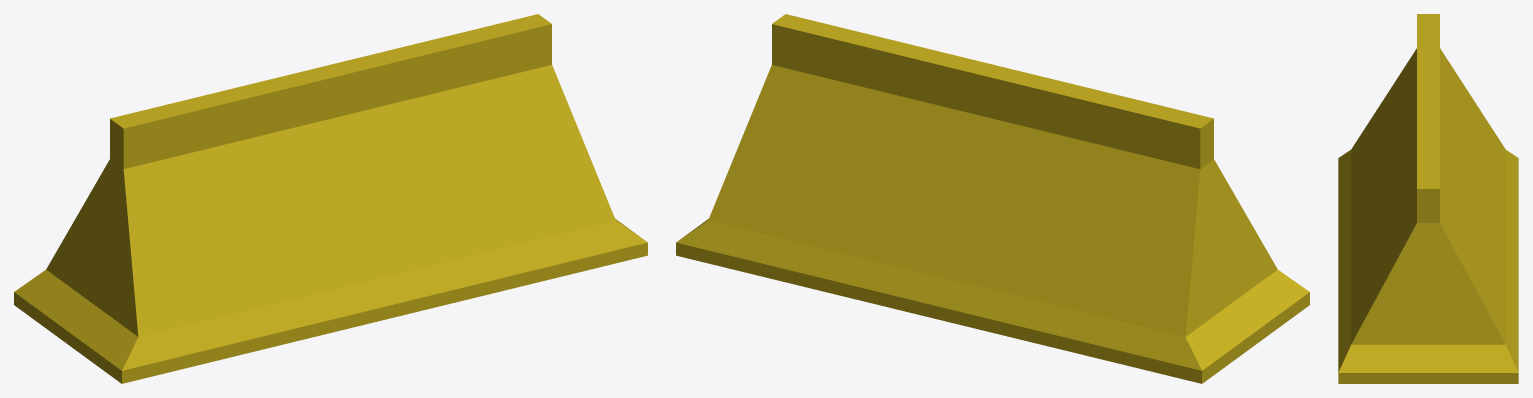
File: bloc.fbx
The picture shows the model from 3 angles, left to right: view 1: azimuth 30°, elevation 25°; view 2: azimuth 150°, elevation 25°; view 3: azimuth 270°, elevation 25°; orthographic projection. The views are drawn at different scales.
Visible parts, largest first — view 1: Cube; view 2: Cube; view 3: Cube.
Part boxes in pixels (x1,y1,x2,y2): Cube: (14,14,647,383); Cube: (676,14,1309,383); Cube: (1338,14,1518,383).
Size of the model in its own units: 189 by 71.61 by 66.93.
